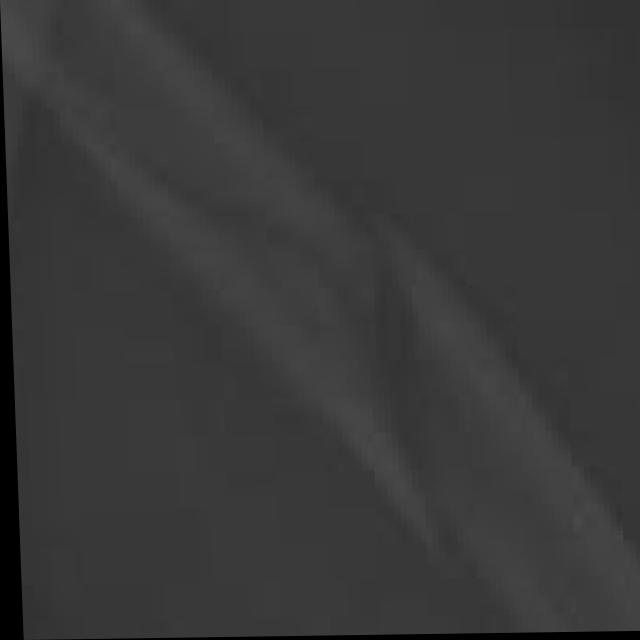fracture: (5, 0, 640, 636)
